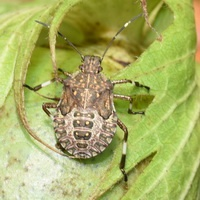insect: (42, 55, 131, 157), (56, 0, 141, 69), (108, 19, 155, 60)
